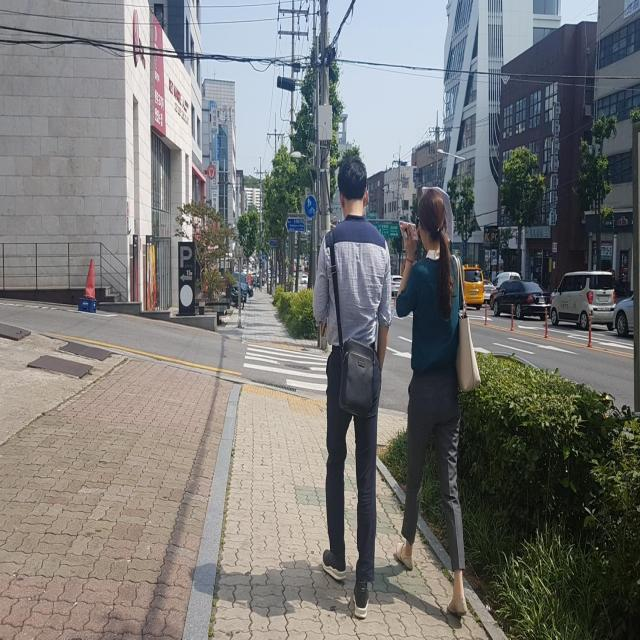횡단보도: (242, 344, 330, 392)
